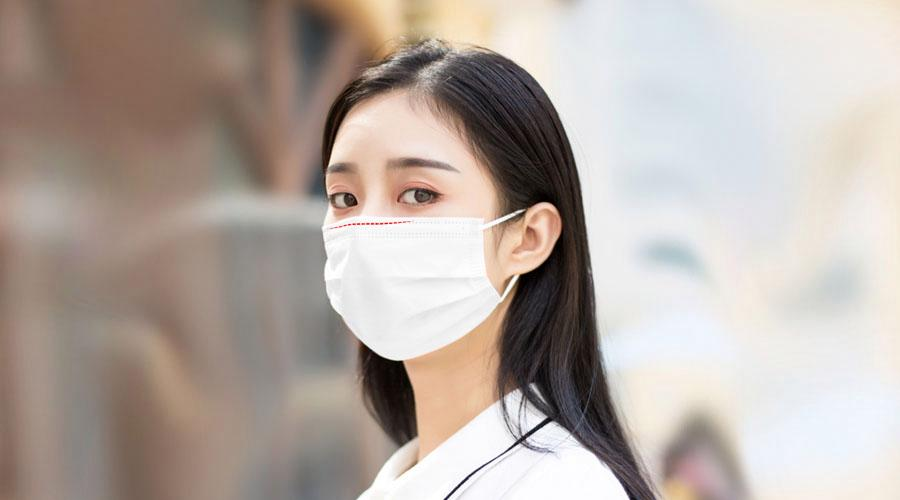mask: (328, 94, 525, 350)
